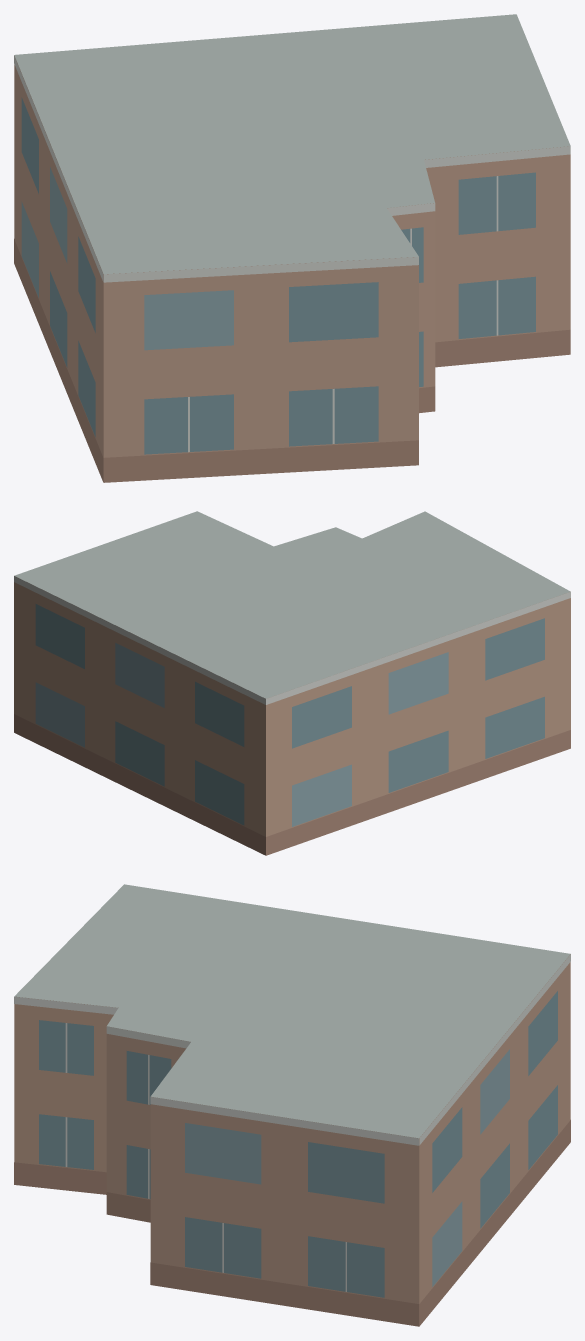
Rendered from survey-upis-32874374.glb.
3 renders of one model, top to bottom at view 1: azimuth 30°, elevation 25°; view 2: azimuth 150°, elevation 25°; view 3: azimuth 270°, elevation 25°, orthographic. The views are drawn at different scales.
Visible parts, largest first — view 1: survey-upis-32874374.tmp; view 2: survey-upis-32874374.tmp; view 3: survey-upis-32874374.tmp.
Part boxes in pixels (x1,y1,x2,y2): survey-upis-32874374.tmp: (14, 14, 570, 482); survey-upis-32874374.tmp: (14, 511, 570, 855); survey-upis-32874374.tmp: (14, 884, 570, 1326).
Size of the model in its own units: 17.66 by 6.1 by 16.35.
